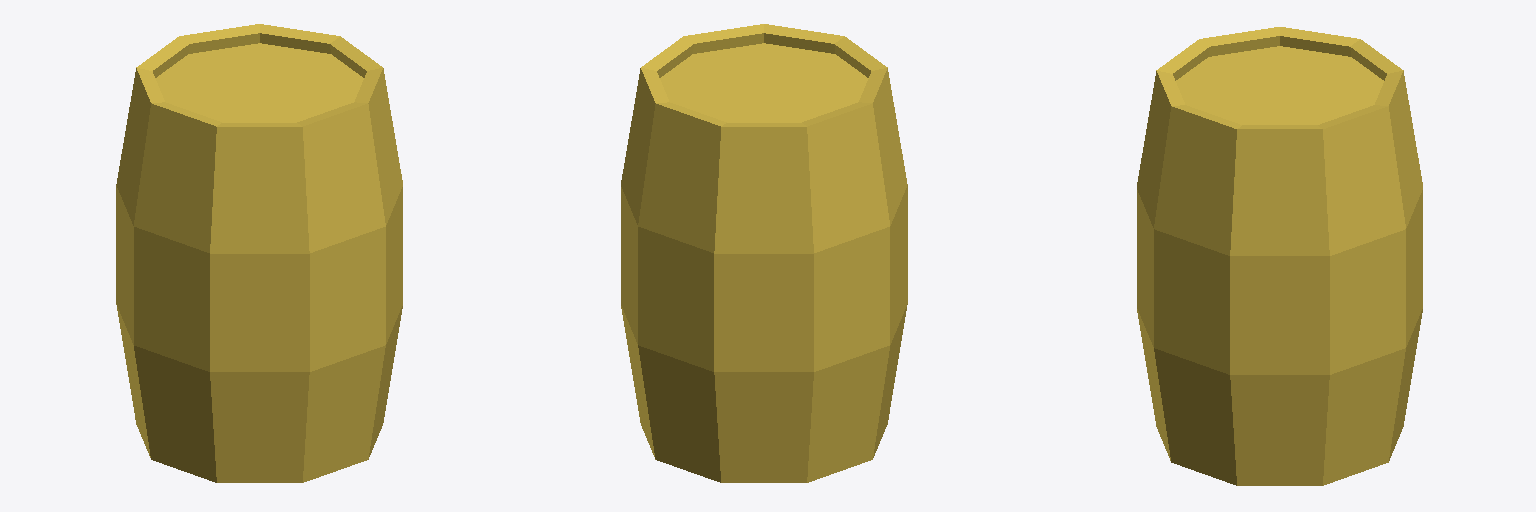
The model's file is barrel2.obj.
3 views of the same model, side by side, from view 1: azimuth 30°, elevation 25°; view 2: azimuth 150°, elevation 25°; view 3: azimuth 270°, elevation 25° (orthographic).
Visible parts, largest first — view 1: barrel2; view 2: barrel2; view 3: barrel2.
Part boxes in pixels (x1,y1,x2,y2): barrel2: (116,24,402,482); barrel2: (621,24,907,482); barrel2: (1137,27,1422,485).
Size of the model in its own units: 0.7895 by 1.1 by 0.8016.